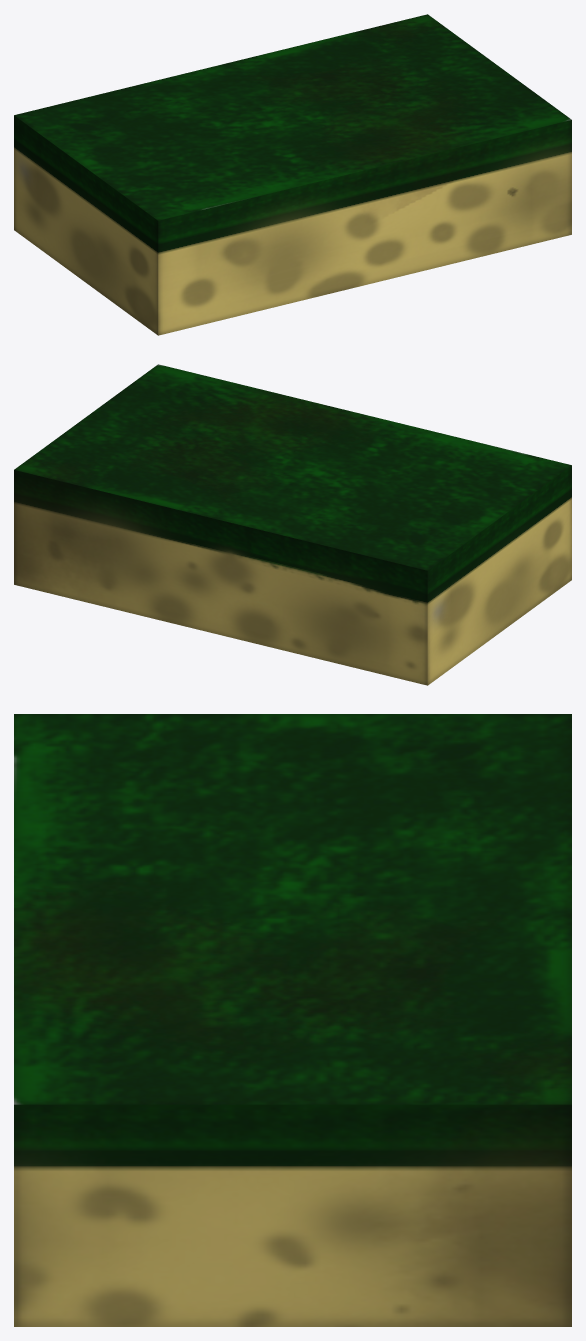
The model's file is eponge.fbx.
3 views of the same model, one above another, from view 1: azimuth 30°, elevation 25°; view 2: azimuth 150°, elevation 25°; view 3: azimuth 270°, elevation 25° (orthographic). The views are drawn at different scales.
Parts seen in each view (by area): view 1: polySurface1919; view 2: polySurface1919; view 3: polySurface1919.
Boxes of the visible parts, bbox=[...] form: polySurface1919: bbox=[14, 14, 571, 335]; polySurface1919: bbox=[14, 364, 571, 685]; polySurface1919: bbox=[14, 714, 571, 1326].
Size of the model in its own units: 23.44 by 6.22 by 14.15.
